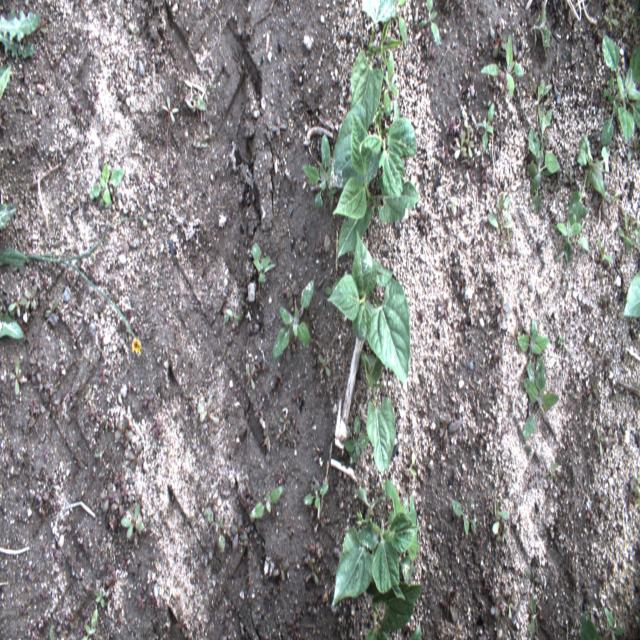crop: (331, 480, 423, 640), (325, 107, 421, 260), (328, 229, 411, 392), (350, 0, 401, 140), (360, 348, 396, 478)
weed: (2, 227, 142, 351), (597, 34, 637, 148), (565, 132, 613, 222), (272, 276, 316, 360), (478, 30, 525, 104), (520, 362, 565, 439), (512, 310, 554, 382), (528, 113, 562, 196), (299, 134, 335, 209), (89, 162, 125, 214), (2, 12, 43, 54), (553, 222, 589, 268), (483, 193, 513, 247), (340, 415, 368, 464), (248, 488, 286, 524), (199, 505, 225, 556), (452, 502, 482, 544), (417, 1, 440, 51), (118, 506, 144, 550), (525, 460, 561, 490), (252, 236, 273, 287), (436, 411, 462, 451), (531, 3, 551, 55), (479, 104, 497, 160), (300, 480, 331, 510), (0, 310, 29, 341), (440, 586, 461, 627), (230, 519, 254, 554), (162, 90, 184, 128), (624, 270, 640, 320), (186, 81, 211, 113), (8, 357, 27, 399), (124, 438, 146, 474), (384, 54, 397, 114), (490, 501, 511, 537), (603, 602, 625, 636), (194, 399, 219, 428), (598, 228, 614, 271), (411, 202, 429, 238), (578, 610, 602, 637), (618, 212, 634, 252), (111, 412, 132, 442), (26, 393, 44, 428), (303, 557, 323, 588), (506, 592, 522, 630), (512, 272, 534, 299), (222, 597, 241, 628), (84, 599, 99, 638), (531, 76, 551, 105), (318, 350, 335, 384), (49, 382, 65, 418), (46, 602, 63, 635), (148, 414, 168, 442), (486, 590, 506, 618), (454, 131, 469, 168), (528, 592, 540, 637), (271, 555, 290, 583), (53, 506, 72, 534), (98, 489, 115, 520), (491, 293, 508, 324), (0, 203, 20, 229), (276, 404, 292, 436), (34, 486, 50, 518), (490, 372, 504, 408), (587, 367, 601, 403), (270, 115, 288, 142), (442, 197, 460, 224), (61, 544, 78, 572), (146, 568, 159, 604), (88, 404, 103, 434), (46, 295, 60, 327), (24, 285, 38, 317), (436, 293, 451, 322), (105, 564, 122, 589), (29, 348, 44, 376), (117, 481, 135, 504), (466, 127, 476, 168), (398, 18, 409, 55), (1, 62, 11, 102), (597, 421, 607, 461), (116, 88, 130, 116), (493, 341, 505, 372), (244, 362, 256, 392), (134, 588, 148, 613), (624, 7, 638, 32), (92, 444, 110, 463), (606, 3, 620, 27), (8, 289, 21, 314), (455, 268, 467, 295), (95, 361, 108, 385), (570, 48, 581, 75), (72, 88, 82, 116), (127, 17, 138, 42), (255, 393, 264, 422), (35, 372, 48, 392), (93, 592, 107, 610), (64, 606, 74, 631), (26, 557, 34, 581), (632, 475, 638, 505)
